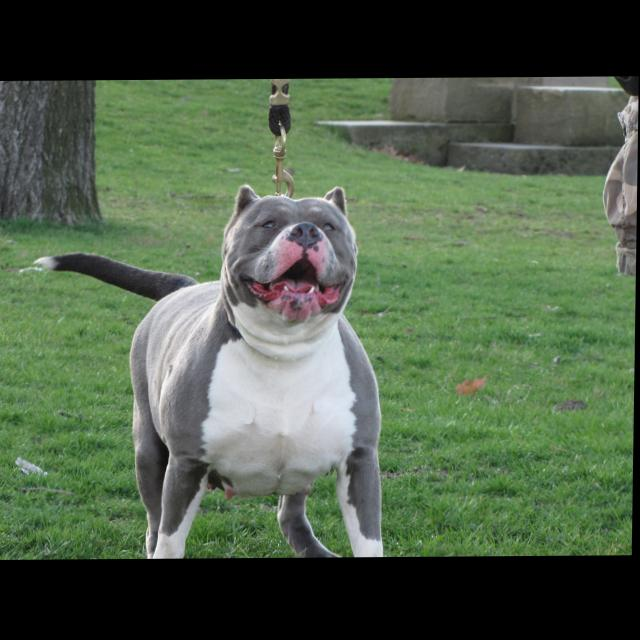am_pit_bull_terrier: (30, 183, 391, 561)
